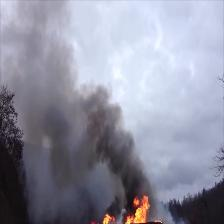fire: (128, 197, 149, 224), (104, 215, 112, 223)
smoke: (21, 2, 70, 128), (74, 91, 114, 169), (116, 145, 143, 191)
